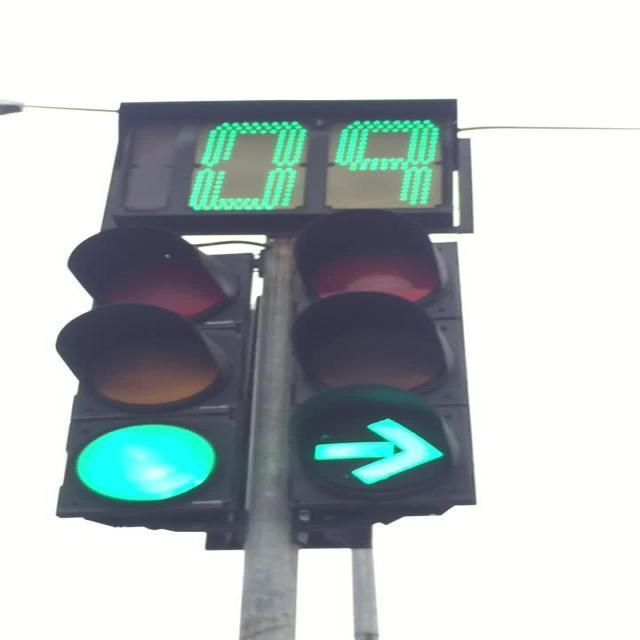green_light: (55, 225, 249, 518), (288, 209, 474, 506)
